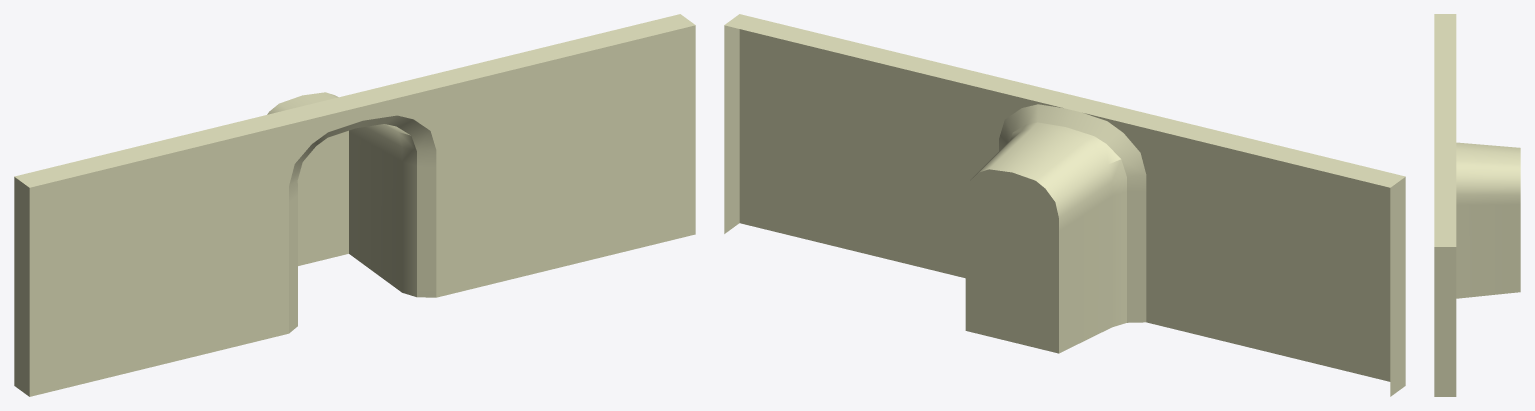
File: Model_MuurMetBoog.fbx
The picture shows the model from 3 angles, left to right: view 1: azimuth 30°, elevation 25°; view 2: azimuth 150°, elevation 25°; view 3: azimuth 270°, elevation 25°; orthographic projection. The views are drawn at different scales.
Parts seen in each view (by area): view 1: Model_Arena_Muur_Boog; view 2: Model_Arena_Muur_Boog; view 3: Model_Arena_Muur_Boog.
Part boxes in pixels (x1,y1,x2,y2): Model_Arena_Muur_Boog: (14, 14, 695, 396); Model_Arena_Muur_Boog: (724, 14, 1405, 396); Model_Arena_Muur_Boog: (1434, 14, 1520, 396).
Size of the model in its own units: 12.5 by 3.75 by 1.96.
